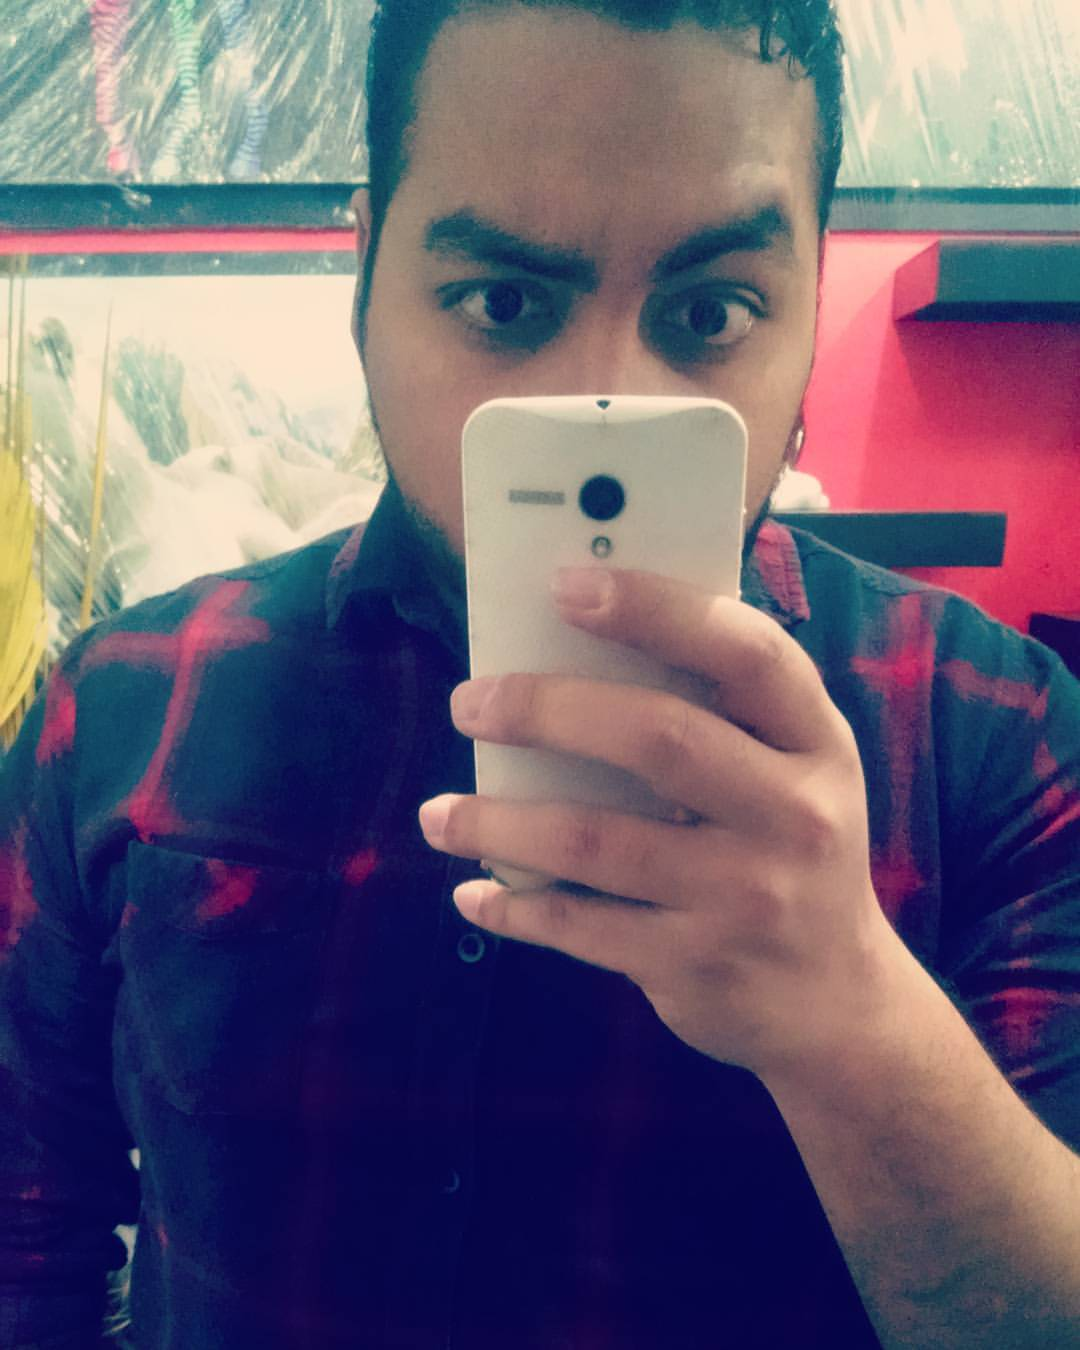Yoshi: (330, 9, 855, 648)
